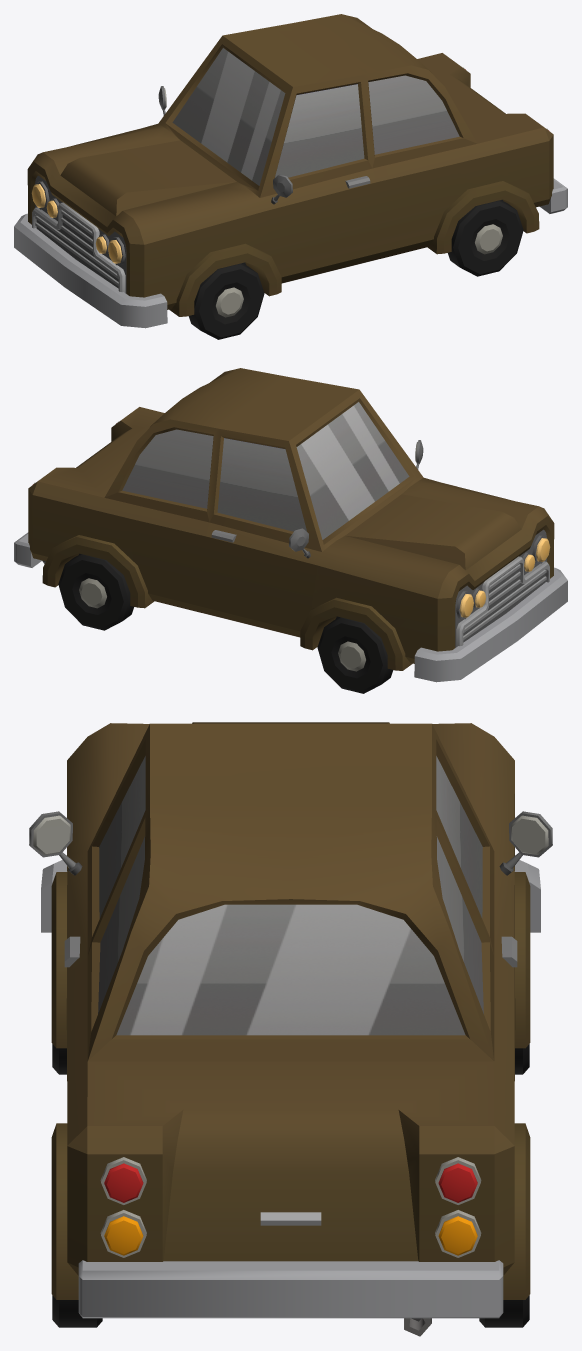
The model's file is Car_7_P.gltf.
3 views of the same model, one above another, from view 1: azimuth 30°, elevation 25°; view 2: azimuth 150°, elevation 25°; view 3: azimuth 270°, elevation 25° (orthographic). The views are drawn at different scales.
Visible parts, largest first — view 1: Car_7_P, RL, FL; view 2: Car_7_P, RR, FR; view 3: Car_7_P, RL, RR.
Boxes of the visible parts, box(x1,y1,x2,y2) form: Car_7_P: box(14, 14, 567, 328); RL: box(448, 200, 523, 276); FL: box(188, 263, 264, 339); Car_7_P: box(14, 368, 567, 682); RR: box(58, 554, 133, 630); FR: box(317, 617, 393, 693); Car_7_P: box(29, 722, 552, 1336); RL: box(52, 1295, 102, 1327); RR: box(479, 1295, 529, 1327).
Size of the model in its own units: 3.38 by 1.52 by 1.7.
3 materials, 3 textured.
